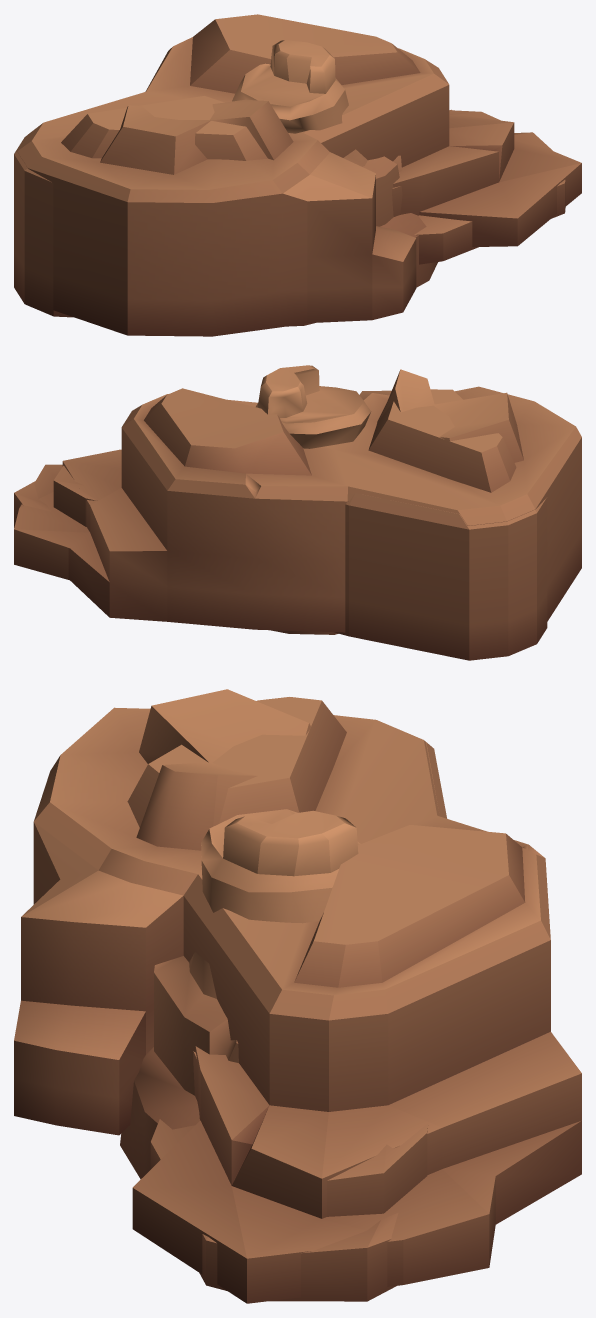
File: Cliffside_v3 (1).fbx
3 renders of one model, top to bottom at view 1: azimuth 30°, elevation 25°; view 2: azimuth 150°, elevation 25°; view 3: azimuth 270°, elevation 25°, orthographic. The views are drawn at different scales.
Visible parts, largest first — view 1: Cylinder.002, Cylinder.001, Cylinder.003; view 2: Cylinder.002, Cylinder.001, Cylinder.003; view 3: Cylinder.002, Cylinder.003, Cylinder.001.
Boxes of the visible parts, x1=… form: Cylinder.002: x1=17, y1=14, x2=581, y2=336; Cylinder.001: x1=14, y1=96, x2=565, y2=326; Cylinder.003: x1=232, y1=40, x2=437, y2=287; Cylinder.002: x1=14, y1=369, x2=581, y2=632; Cylinder.001: x1=14, y1=389, x2=547, y2=660; Cylinder.003: x1=256, y1=365, x2=371, y2=634; Cylinder.002: x1=14, y1=689, x2=581, y2=1303; Cylinder.003: x1=120, y1=809, x2=360, y2=1179; Cylinder.001: x1=127, y1=697, x2=447, y2=1301.
Bounding box in the file's own units: 10410 × 4109 × 6489.
